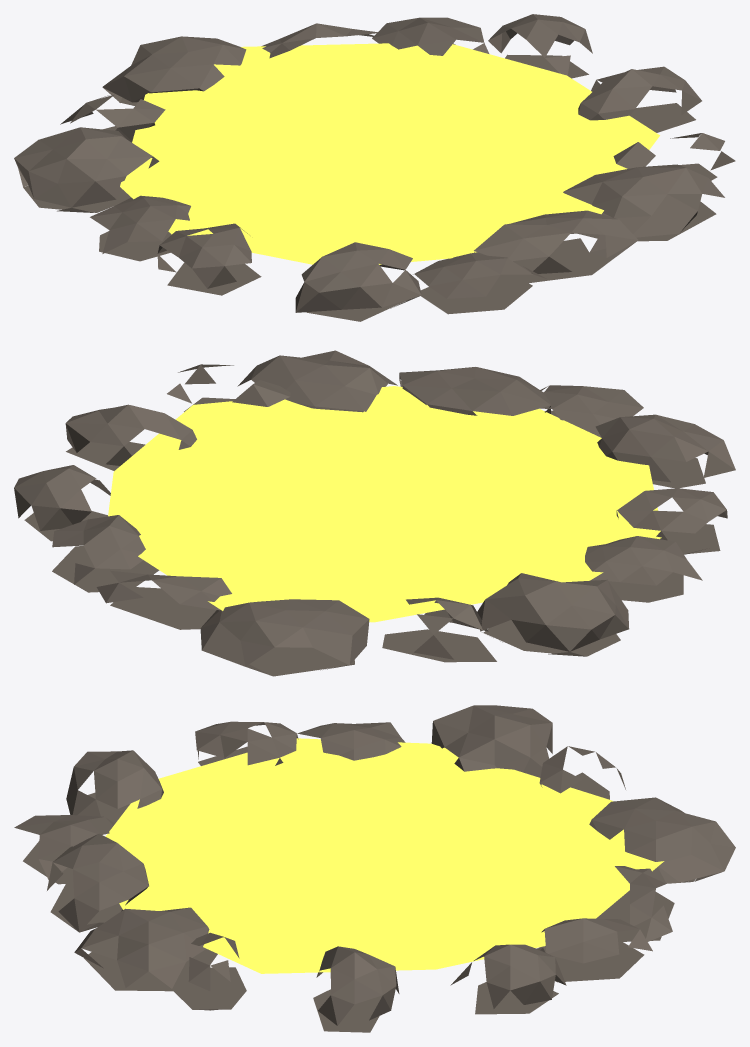
The model's file is lava-pool-lod1.glb.
3 renders of one model, top to bottom at view 1: azimuth 30°, elevation 25°; view 2: azimuth 150°, elevation 25°; view 3: azimuth 270°, elevation 25°, orthographic. The views are drawn at different scales.
Visible parts, largest first — view 1: lava-pool-melt, lava-pool-rim; view 2: lava-pool-melt, lava-pool-rim; view 3: lava-pool-melt, lava-pool-rim.
Part boxes in pixels (x1=…): lava-pool-melt: x1=120, y1=43, x2=659, y2=264; lava-pool-rim: x1=14, y1=14, x2=735, y2=321; lava-pool-melt: x1=108, y1=386, x2=661, y2=622; lava-pool-rim: x1=14, y1=350, x2=735, y2=676; lava-pool-melt: x1=105, y1=738, x2=664, y2=973; lava-pool-rim: x1=14, y1=705, x2=735, y2=1032.
Size of the model in its own units: 10.07 by 0.8362 by 10.13.
